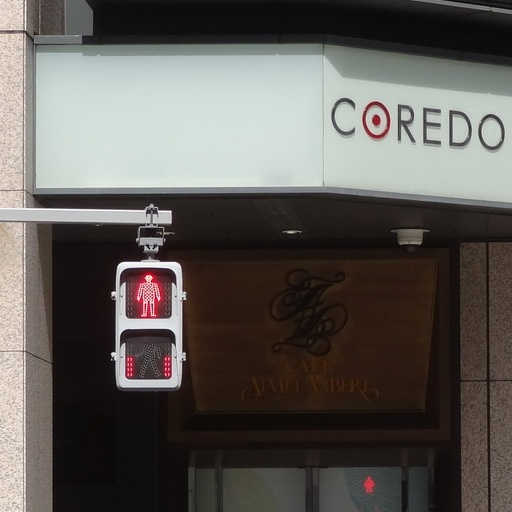Pedestrian_Signal_Red: (109, 254, 190, 384)
